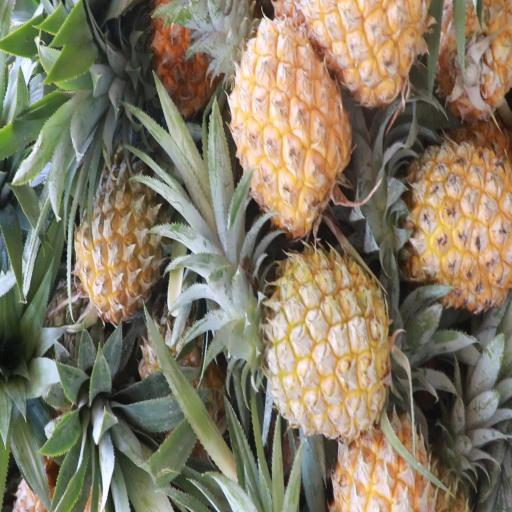Pineapple - v8 v1: (222, 20, 356, 241), (251, 246, 389, 448), (367, 132, 512, 304), (73, 143, 163, 333)
